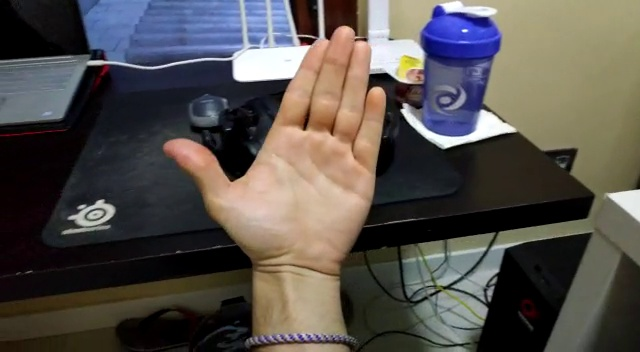Palm: (161, 25, 388, 279)
